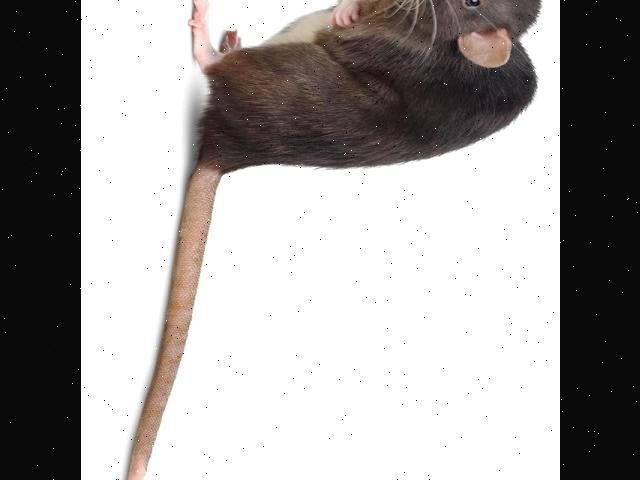Tikus: (138, 0, 550, 439)
